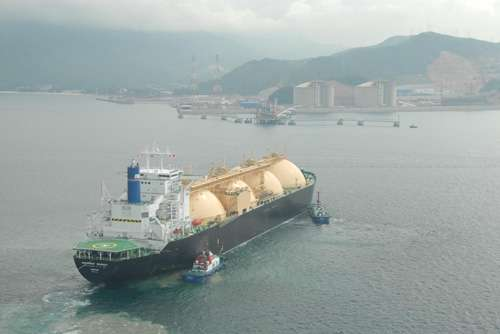Cargoship: (70, 144, 318, 287)
otherboat: (184, 247, 225, 285), (308, 192, 333, 230)
